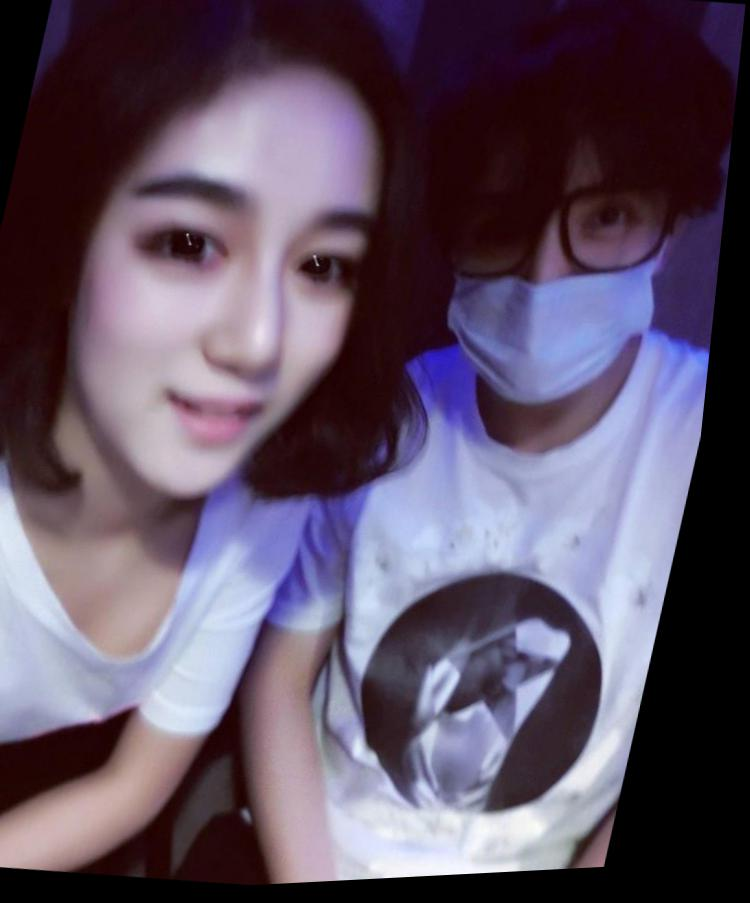NONE: (52, 161, 381, 509)
WRONG: (409, 150, 691, 421)
